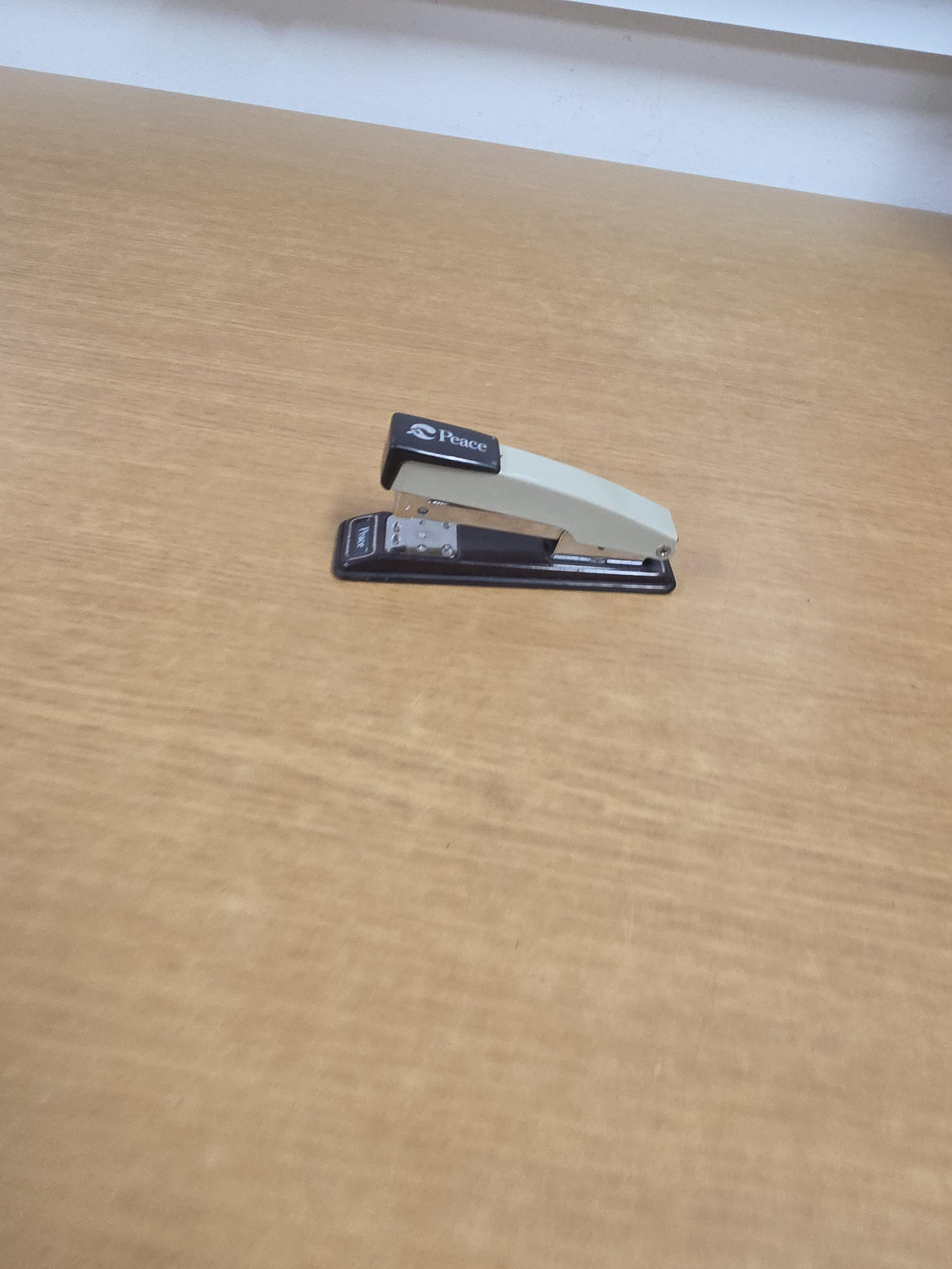stapler: (331, 411, 679, 595)
